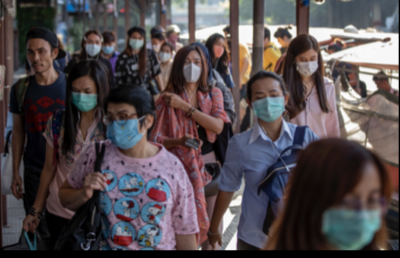with_mask: (318, 184, 383, 247), (104, 108, 143, 150), (250, 87, 285, 122), (70, 85, 97, 112), (295, 54, 318, 77), (182, 56, 201, 83), (84, 38, 101, 56), (211, 39, 224, 58), (128, 34, 142, 50), (158, 48, 171, 62), (101, 41, 114, 54), (150, 40, 160, 52)
without_mask: (26, 45, 52, 73)
